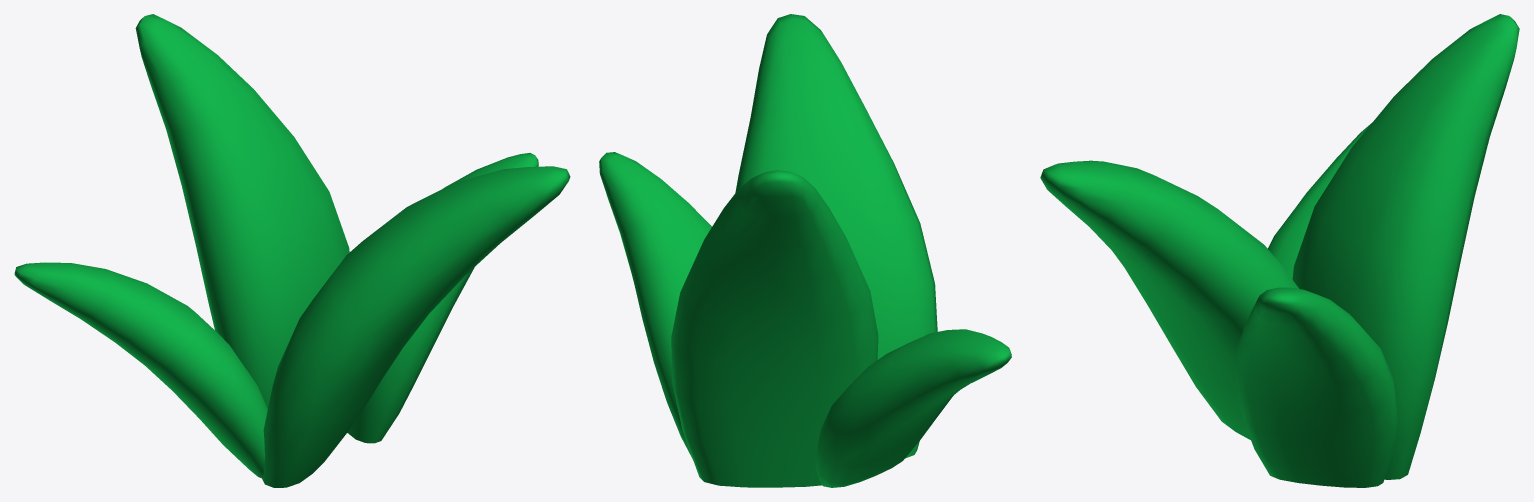
Rendered from City_2_Grass_1.glb.
The picture shows the model from 3 angles, left to right: view 1: azimuth 30°, elevation 25°; view 2: azimuth 150°, elevation 25°; view 3: azimuth 270°, elevation 25°; orthographic projection. The views are drawn at different scales.
Parts seen in each view (by area): view 1: City_2_Grass_1; view 2: City_2_Grass_1; view 3: City_2_Grass_1.
Part boxes in pixels (left/top/right/bottom): City_2_Grass_1: left=14, top=14, right=570, bottom=487; City_2_Grass_1: left=599, top=14, right=1011, bottom=487; City_2_Grass_1: left=1040, top=14, right=1519, bottom=487.
Bounding box in the file's own units: 0.9023 × 0.6937 × 0.7617.
Materials: 1 (1 with a texture image).
